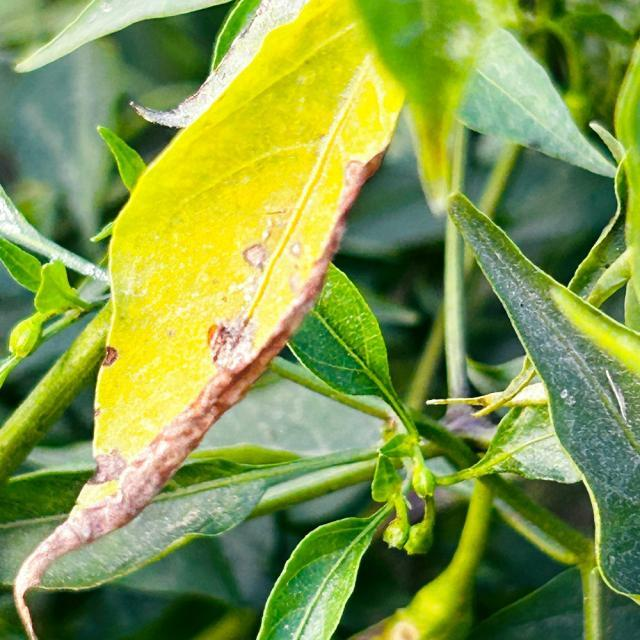Bercak Daun Serkospora: (10, 0, 404, 640)
